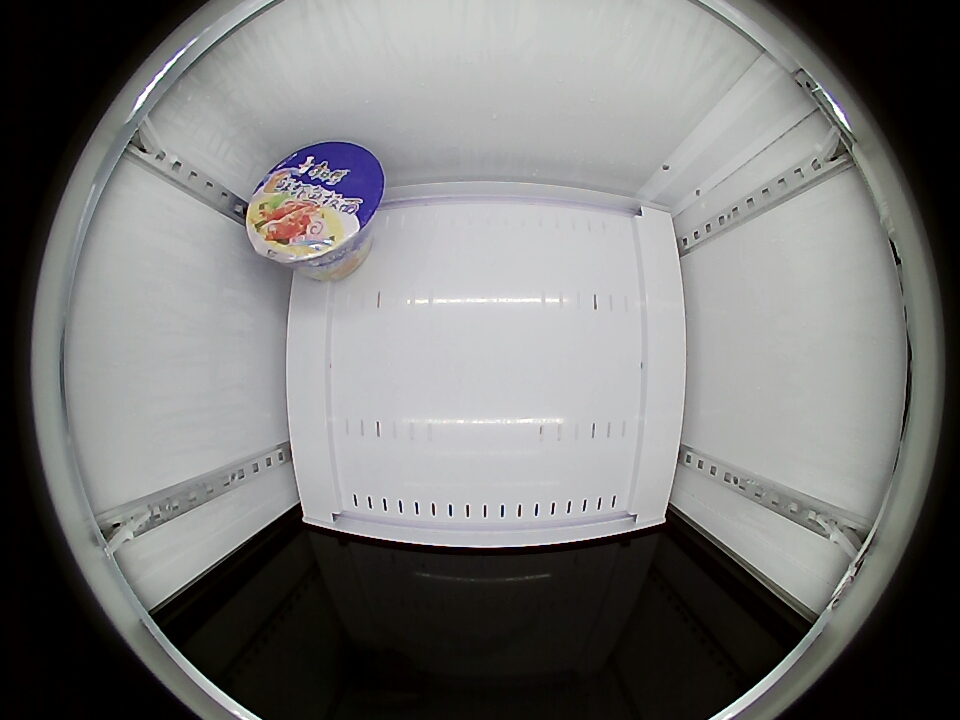xianxiayuban: (245, 142, 386, 266)
